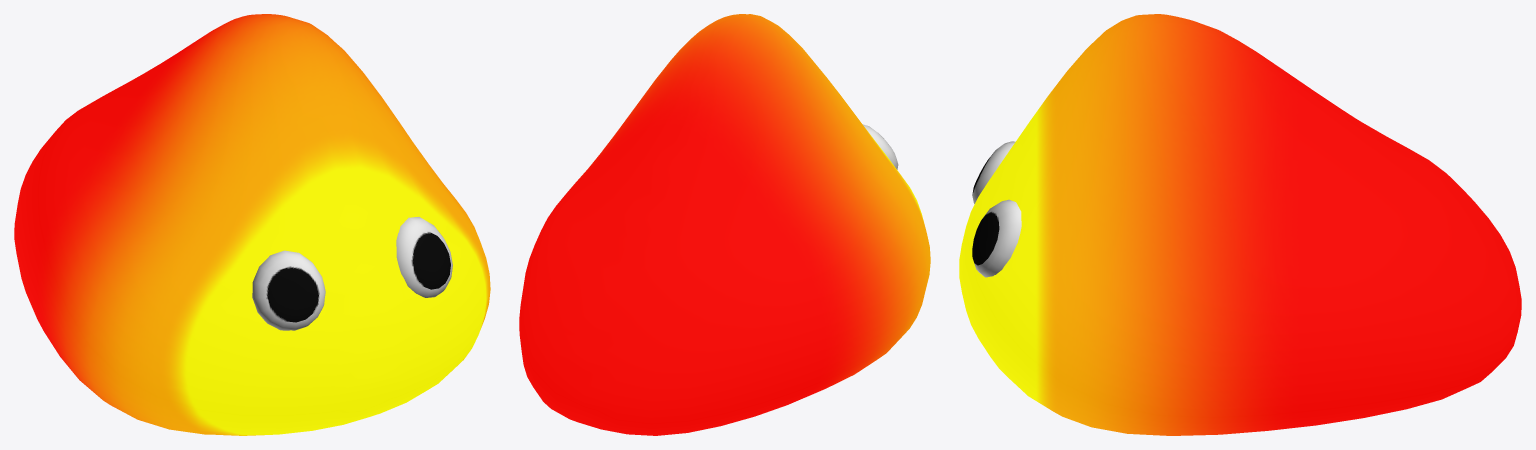
Rendered from FireSlime.fbx.
3 renders of one model, left to right at view 1: azimuth 30°, elevation 25°; view 2: azimuth 150°, elevation 25°; view 3: azimuth 270°, elevation 25°, orthographic. The views are drawn at different scales.
Visible parts, largest first — view 1: basic slime.001_Baked; view 2: basic slime.001_Baked; view 3: basic slime.001_Baked.
Boxes of the visible parts, bbox=[...] form: basic slime.001_Baked: bbox=[14, 14, 490, 435]; basic slime.001_Baked: bbox=[519, 14, 930, 435]; basic slime.001_Baked: bbox=[959, 14, 1521, 435].
Bounding box in the file's own units: 274 × 251 × 361.
1 material, 1 textured.
